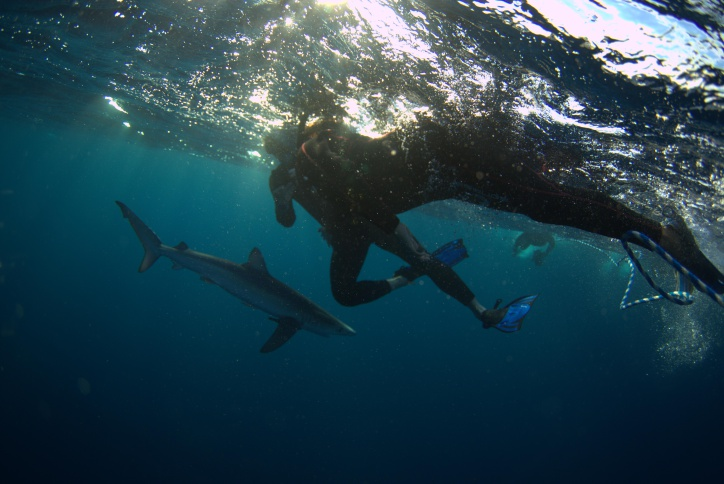Azul: (108, 195, 375, 367)
